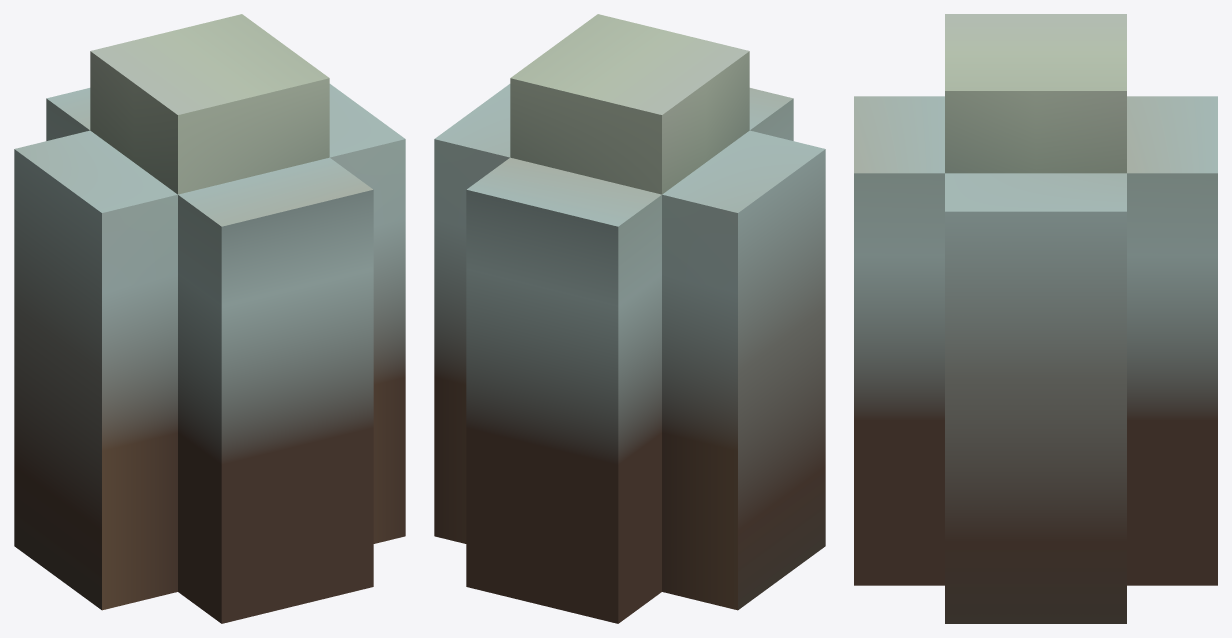
The model's file is ContainerBrown_01.fbx.
The picture shows the model from 3 angles, left to right: view 1: azimuth 30°, elevation 25°; view 2: azimuth 150°, elevation 25°; view 3: azimuth 270°, elevation 25°; orthographic projection. The views are drawn at different scales.
Parts seen in each view (by area): view 1: ContainerBrown_01; view 2: ContainerBrown_01; view 3: ContainerBrown_01.
Boxes of the visible parts, <box> form: ContainerBrown_01: <box>14,14,405,623</box>; ContainerBrown_01: <box>434,14,825,623</box>; ContainerBrown_01: <box>854,14,1217,623</box>.
Size of the model in its own units: 20 by 20 by 30.
1 material, 1 textured.
